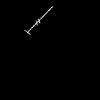treble_crochet: (27, 7, 51, 32)
